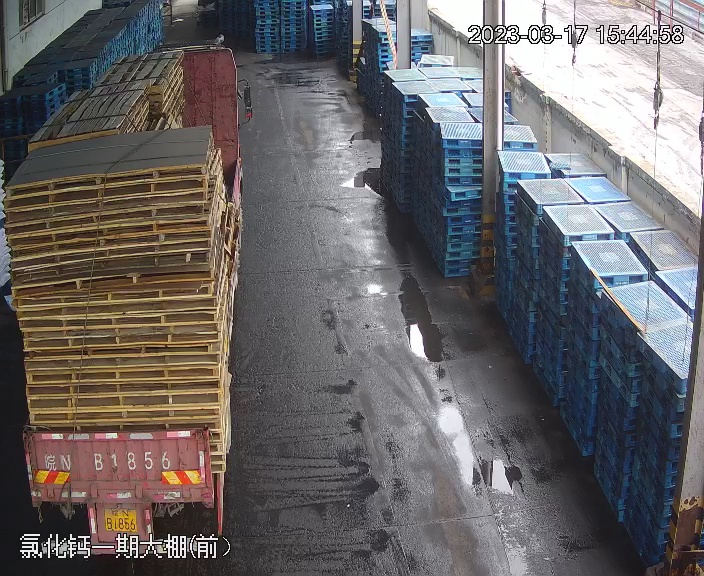truck: (3, 43, 259, 561)
